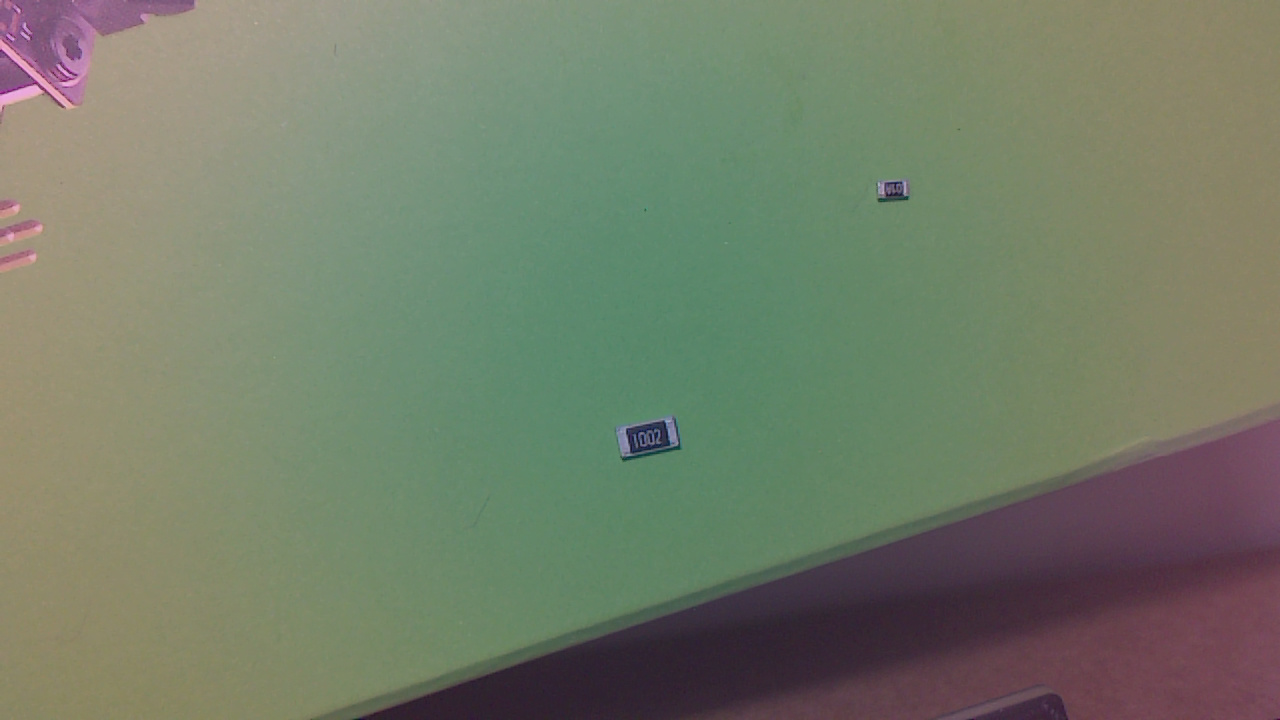Resistor: (617, 420, 690, 468), (879, 183, 916, 209)
